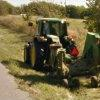Tractor: (13, 15, 100, 98)
